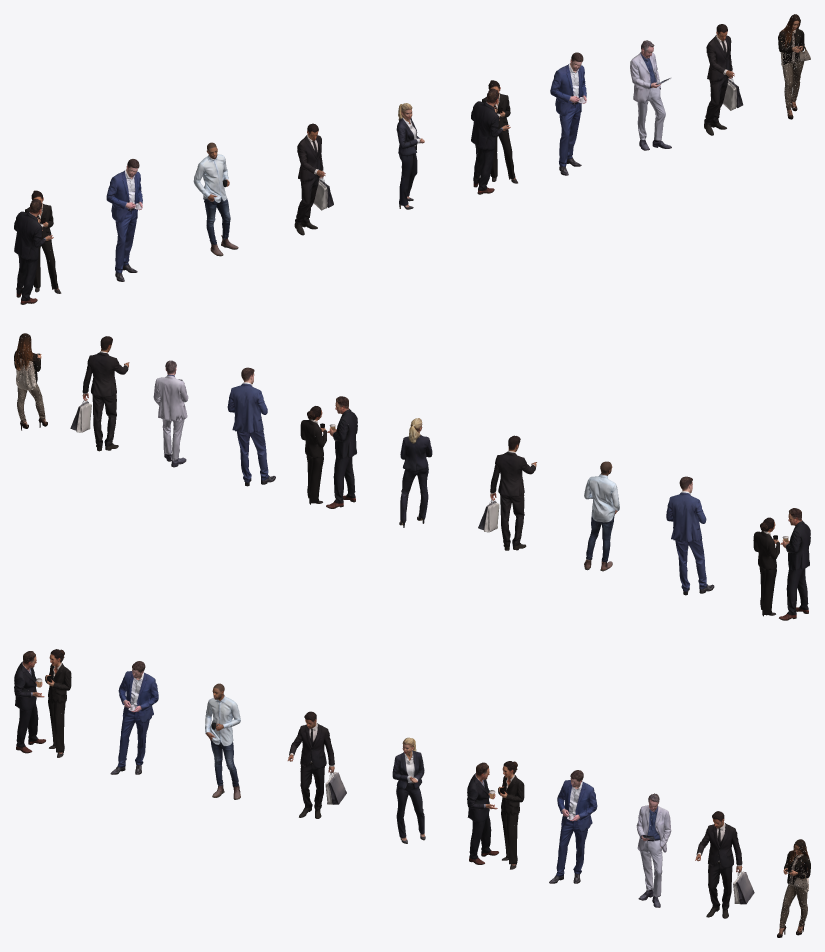
Rendered from people10.glb.
The picture shows the model from 3 angles, top to bottom: view 1: azimuth 30°, elevation 25°; view 2: azimuth 150°, elevation 25°; view 3: azimuth 330°, elevation 25°; orthographic projection.
Parts seen in each view (by area): view 1: Collection of office workers x 10-007_Collection of office w (×2), Collection of office workers x 10-002_Collection of office w (×2), Collection of office workers x 10-010_Collection of office w (×2), Collection of office workers x 10-008_Collection of office w, Collection of office workers x 10-003_Collection of office w, Collection of office workers x 10-009_Collection of office w, Collection of office workers x 10-005_Collection of office w, Collection of office workers x 10-006_Collection of office w, Collection of office workers x 10-004_Collection of office w, Collection of office workers x 10-001_Collection of office w; view 2: Collection of office workers x 10-002_Collection of office w (×2), Collection of office workers x 10-007_Collection of office w (×2), Collection of office workers x 10-010_Collection of office w (×2), Collection of office workers x 10-005_Collection of office w, Collection of office workers x 10-009_Collection of office w, Collection of office workers x 10-003_Collection of office w, Collection of office workers x 10-008_Collection of office w, Collection of office workers x 10-004_Collection of office w, Collection of office workers x 10-006_Collection of office w, Collection of office workers x 10-001_Collection of office w; view 3: Collection of office workers x 10-007_Collection of office w (×2), Collection of office workers x 10-002_Collection of office w (×2), Collection of office workers x 10-010_Collection of office w (×2), Collection of office workers x 10-005_Collection of office w, Collection of office workers x 10-009_Collection of office w, Collection of office workers x 10-003_Collection of office w, Collection of office workers x 10-008_Collection of office w, Collection of office workers x 10-006_Collection of office w, Collection of office workers x 10-004_Collection of office w, Collection of office workers x 10-001_Collection of office w.
Part boxes in pixels (x1,y1,x2,y2): Collection of office workers x 10-007_Collection of office w (×2): (471, 80, 517, 194); Collection of office workers x 10-002_Collection of office w (×2): (14, 190, 60, 304); Collection of office workers x 10-010_Collection of office w (×2): (778, 14, 810, 119); Collection of office workers x 10-008_Collection of office w: (550, 52, 586, 175); Collection of office workers x 10-003_Collection of office w: (106, 159, 142, 281); Collection of office workers x 10-009_Collection of office w: (704, 24, 743, 135); Collection of office workers x 10-005_Collection of office w: (294, 123, 333, 235); Collection of office workers x 10-006_Collection of office w: (630, 40, 671, 150); Collection of office workers x 10-004_Collection of office w: (193, 142, 238, 256); Collection of office workers x 10-001_Collection of office w: (396, 103, 424, 209); Collection of office workers x 10-002_Collection of office w (×2): (753, 508, 810, 620); Collection of office workers x 10-007_Collection of office w (×2): (300, 396, 357, 508); Collection of office workers x 10-010_Collection of office w (×2): (14, 333, 47, 430); Collection of office workers x 10-005_Collection of office w: (478, 435, 536, 550); Collection of office workers x 10-009_Collection of office w: (70, 336, 129, 451); Collection of office workers x 10-003_Collection of office w: (666, 476, 714, 595); Collection of office workers x 10-008_Collection of office w: (227, 367, 275, 486); Collection of office workers x 10-004_Collection of office w: (584, 461, 619, 571); Collection of office workers x 10-006_Collection of office w: (153, 360, 188, 467); Collection of office workers x 10-001_Collection of office w: (399, 418, 432, 527); Collection of office workers x 10-007_Collection of office w (×2): (467, 761, 524, 869); Collection of office workers x 10-002_Collection of office w (×2): (14, 649, 71, 757); Collection of office workers x 10-010_Collection of office w (×2): (777, 839, 810, 937); Collection of office workers x 10-005_Collection of office w: (287, 711, 346, 818); Collection of office workers x 10-009_Collection of office w: (695, 811, 754, 918); Collection of office workers x 10-003_Collection of office w: (110, 661, 158, 774); Collection of office workers x 10-008_Collection of office w: (549, 770, 597, 883); Collection of office workers x 10-006_Collection of office w: (636, 793, 671, 907); Collection of office workers x 10-004_Collection of office w: (205, 683, 240, 799); Collection of office workers x 10-001_Collection of office w: (392, 737, 425, 843).
Size of the model in its own units: 14.34 by 1.95 by 1.04.
11 materials, 10 textured.
